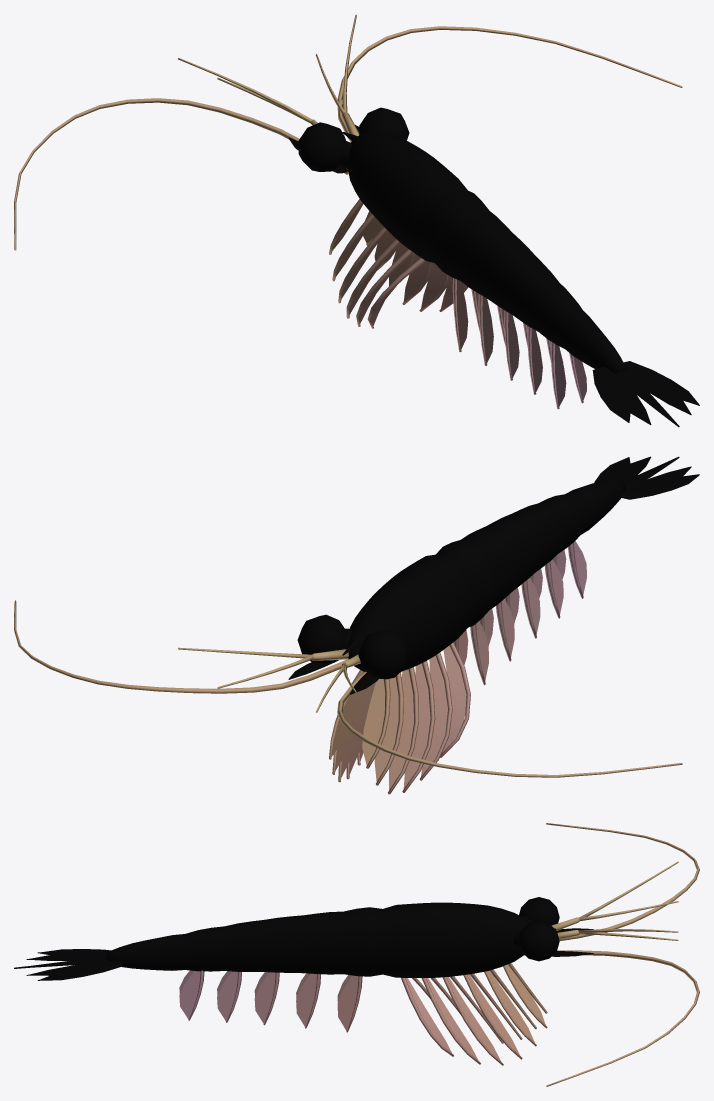
The model's file is krill.glb.
3 views of the same model, one above another, from view 1: azimuth 30°, elevation 25°; view 2: azimuth 150°, elevation 25°; view 3: azimuth 270°, elevation 25° (orthographic). The views are drawn at different scales.
Parts seen in each view (by area): view 1: krill; view 2: krill; view 3: krill.
Boxes of the visible parts, left/top/right/bottom form: krill: left=14, top=14, right=699, bottom=427; krill: left=14, top=456, right=699, bottom=794; krill: left=14, top=823, right=699, bottom=1086.
Bounding box in the file's own units: 0.0331 × 0.00928 × 0.0365.
